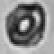correct: (3, 1, 49, 51)
